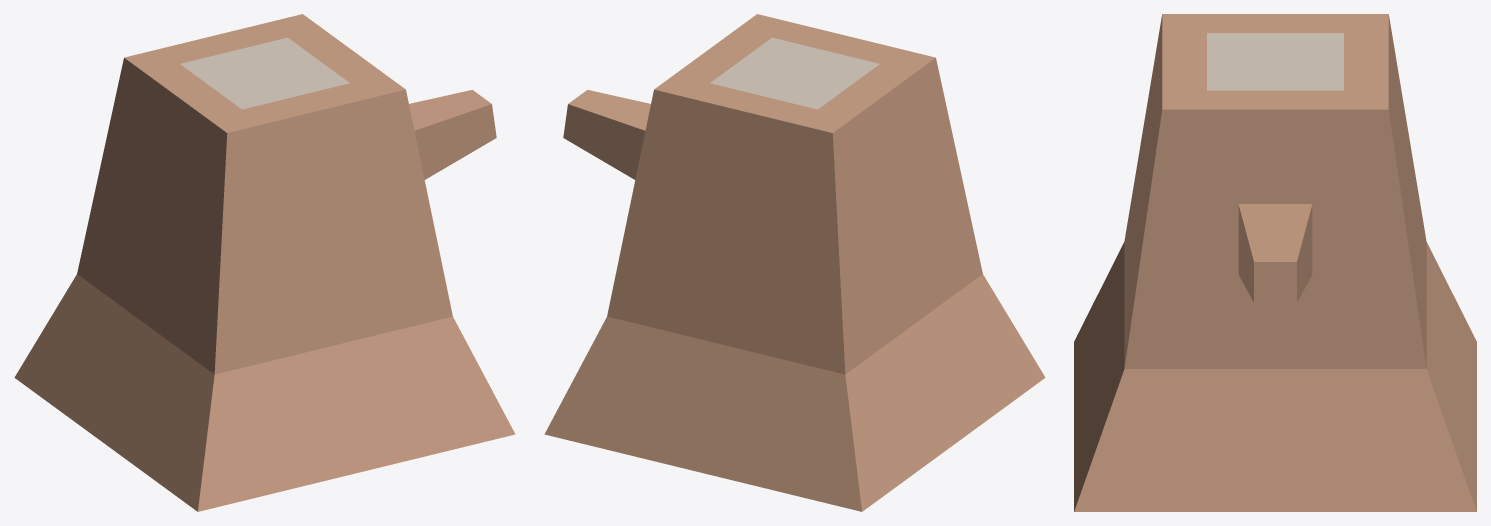
The model's file is stump_square.glb.
3 views of the same model, side by side, from view 1: azimuth 30°, elevation 25°; view 2: azimuth 150°, elevation 25°; view 3: azimuth 270°, elevation 25° (orthographic). The views are drawn at different scales.
Parts seen in each view (by area): view 1: stump_square; view 2: stump_square; view 3: stump_square.
Boxes of the visible parts, x1,y1,x2,y2 form: stump_square: (14, 14, 515, 511); stump_square: (544, 14, 1045, 511); stump_square: (1074, 14, 1476, 511).
Size of the model in its own units: 0.3596 by 0.3 by 0.3.
